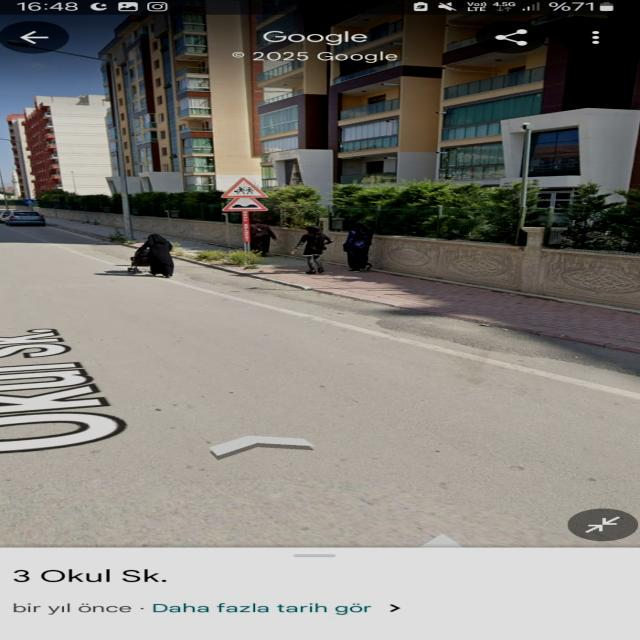okul_gecidi: (220, 176, 269, 198)
